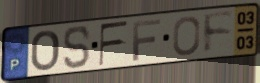F: (98, 19, 130, 68), (202, 10, 236, 56), (132, 17, 163, 63)
O: (30, 28, 61, 73), (171, 14, 202, 58)
S: (62, 25, 92, 71)
